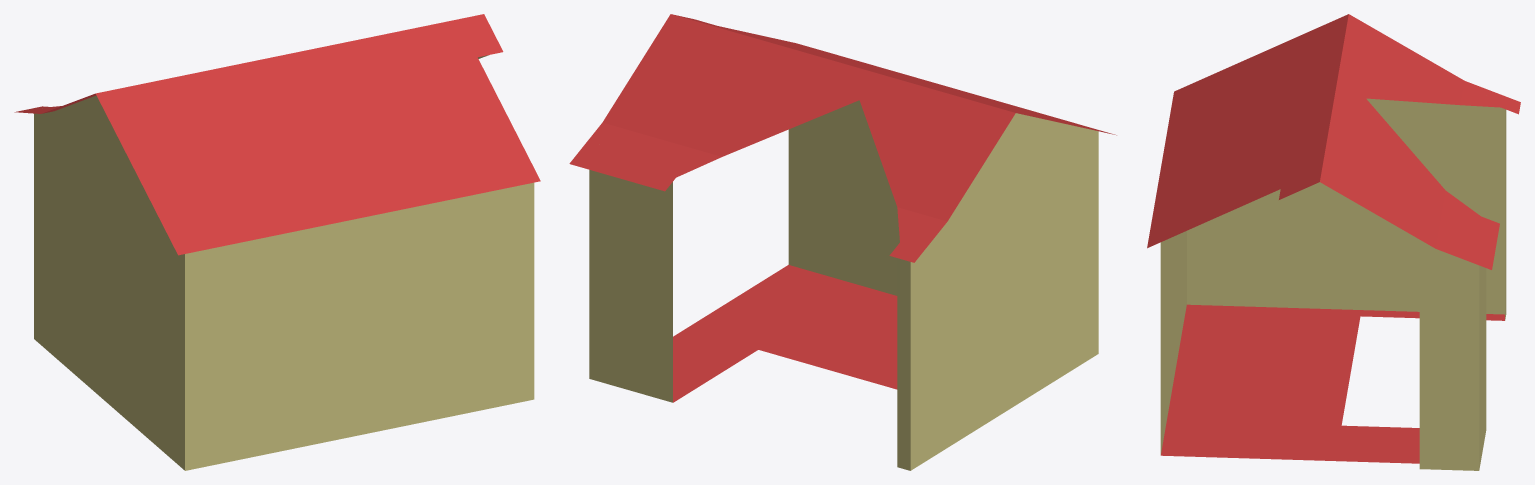
3 renders of one model, left to right at view 1: azimuth 30°, elevation 25°; view 2: azimuth 150°, elevation 25°; view 3: azimuth 270°, elevation 25°, orthographic. The views are drawn at different scales.
Size of the model in its own units: 15.33 by 13.55 by 11.59.
